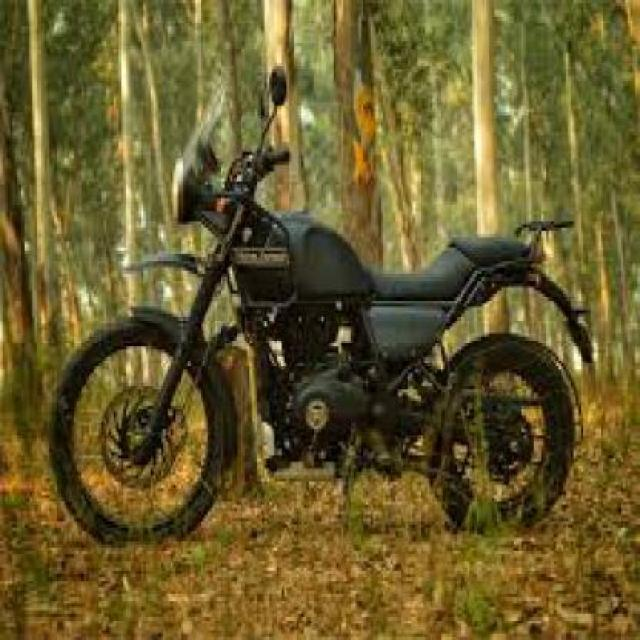motorbike: (46, 56, 595, 552)
